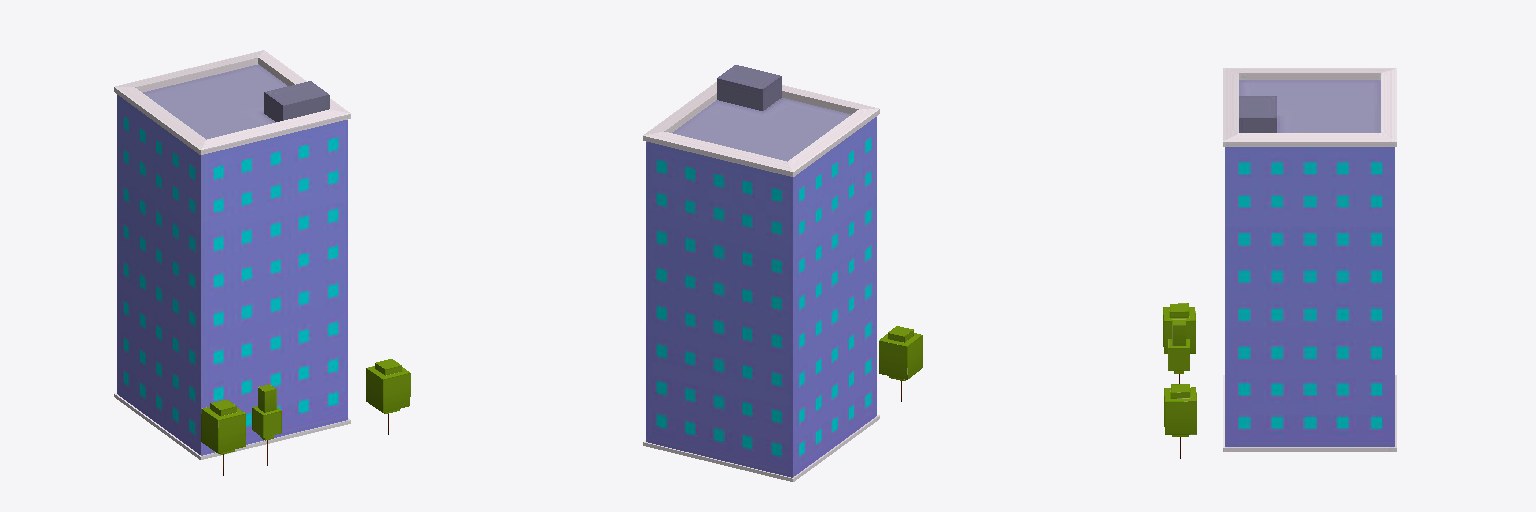
3 renders of one model, left to right at view 1: azimuth 30°, elevation 25°; view 2: azimuth 150°, elevation 25°; view 3: azimuth 270°, elevation 25°, orthographic.
Visible parts, largest first — view 1: living_purple_2lvl_Mesh.169, Tree_3_499_2.022_Mesh.291, Tree_3_499_2.023_Mesh.293, Tree_2_3_61.035_Mesh.292; view 2: living_purple_2lvl_Mesh.169, Tree_3_499_2.022_Mesh.291; view 3: living_purple_2lvl_Mesh.169, Tree_3_499_2.023_Mesh.293, Tree_2_3_61.035_Mesh.292, Tree_3_499_2.022_Mesh.291.
Part boxes in pixels (bbox=[...]): living_purple_2lvl_Mesh.169: bbox=[114, 50, 350, 459]; Tree_3_499_2.022_Mesh.291: bbox=[201, 399, 245, 475]; Tree_3_499_2.023_Mesh.293: bbox=[366, 359, 410, 434]; Tree_2_3_61.035_Mesh.292: bbox=[252, 384, 281, 465]; living_purple_2lvl_Mesh.169: bbox=[643, 65, 879, 481]; Tree_3_499_2.022_Mesh.291: bbox=[879, 326, 922, 401]; living_purple_2lvl_Mesh.169: bbox=[1223, 68, 1396, 451]; Tree_3_499_2.023_Mesh.293: bbox=[1164, 384, 1196, 458]; Tree_2_3_61.035_Mesh.292: bbox=[1168, 319, 1189, 383]; Tree_3_499_2.022_Mesh.291: bbox=[1163, 303, 1195, 353].
Size of the model in its own units: 1.63 by 2.63 by 1.7.
Materials: 3 (3 with a texture image).